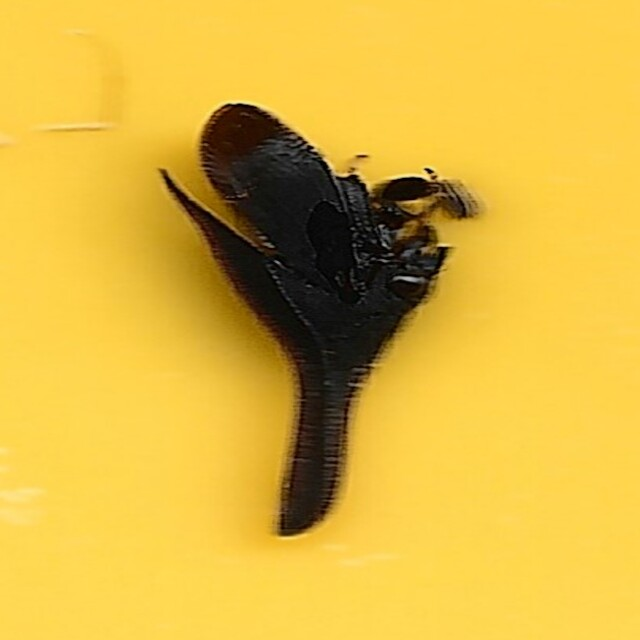Hemiptera: (158, 102, 482, 538)
